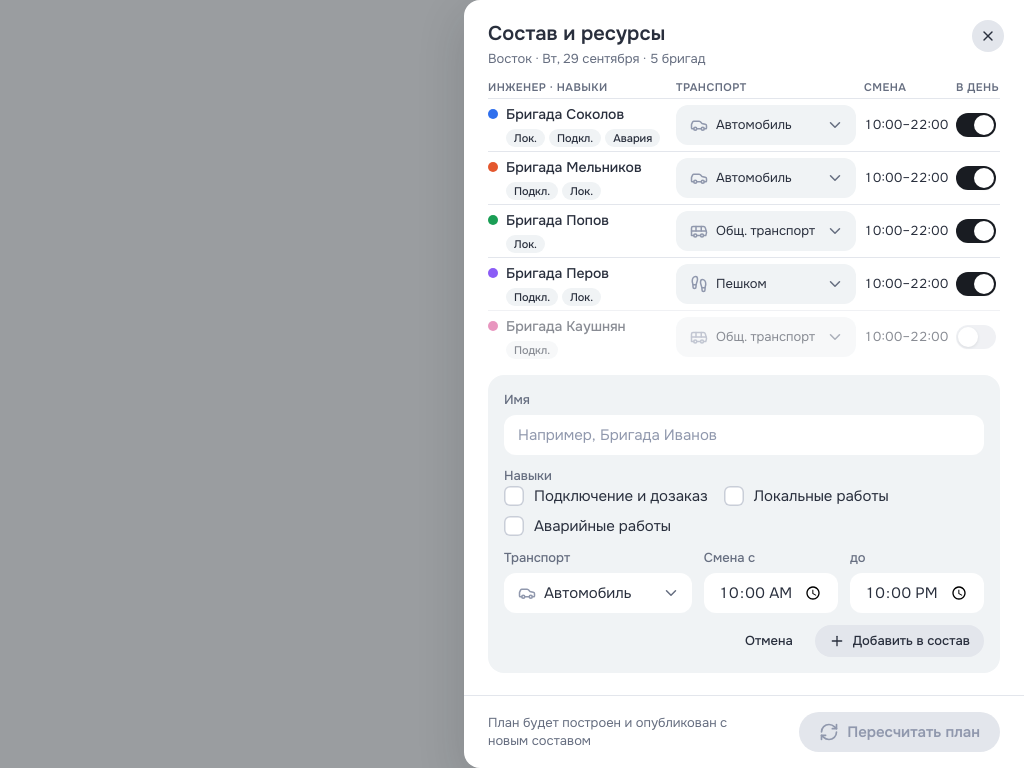
Test: DS-09 «Состав и ресурсы» › до публикации: PATCH изменённых и POST новых → расчёт и сразу публикация (D-25)
The width and height of the screenshot is (1024, 768).
expect the time field labelled "Смена с" holds "10:00": met, box [718,573,824,613]
expect the time field labelled "до" holds "22:00": met, box [864,573,970,613]
Click the button "Добавить в состав" at [899, 641], box [815,625,984,657]
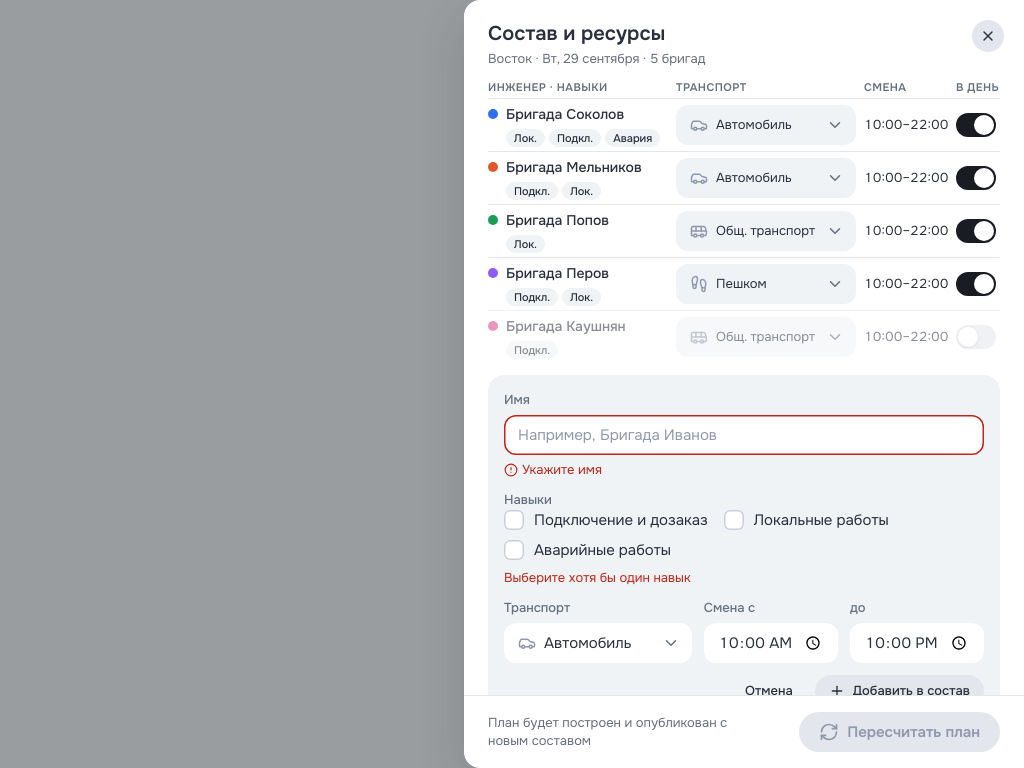
expect the text "Укажите имя" is shown: met, box [504,461,602,478]
expect the text "Выберите хотя бы один навык" is shown: met, box [504,569,691,586]
Type "Бригада Иванов" into the field labelled "Имя" at [744, 435], box [518,415,970,455]
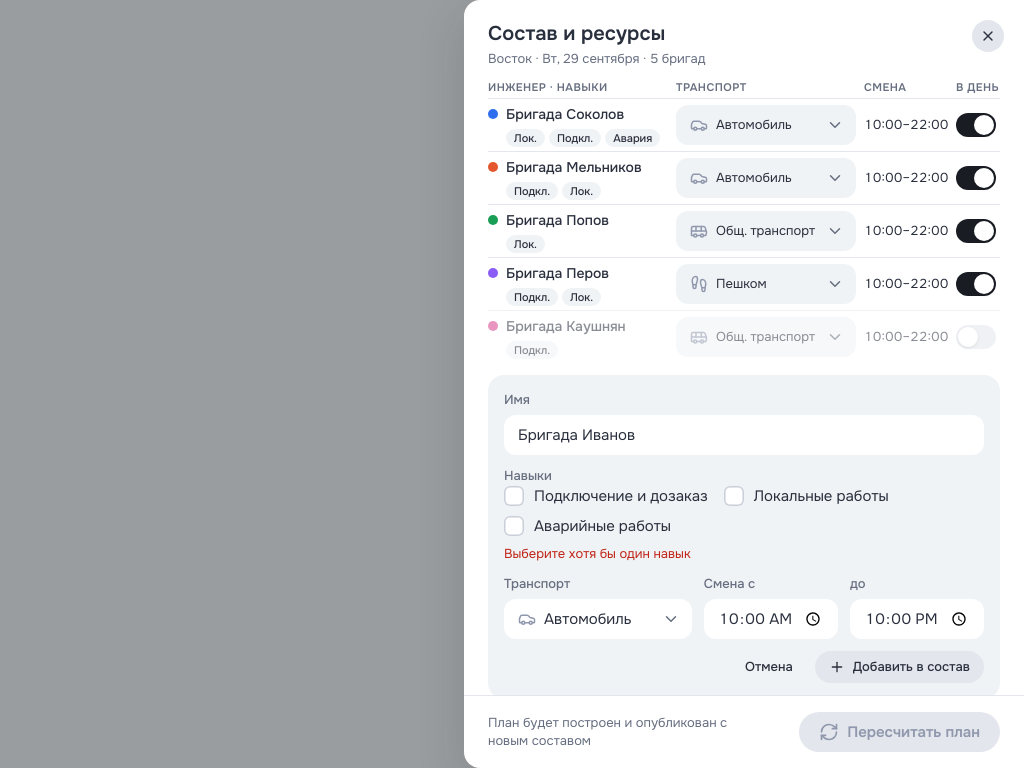
Click the checkbox labelled "Аварийные работы" at [587, 526], box [504,515,671,537]
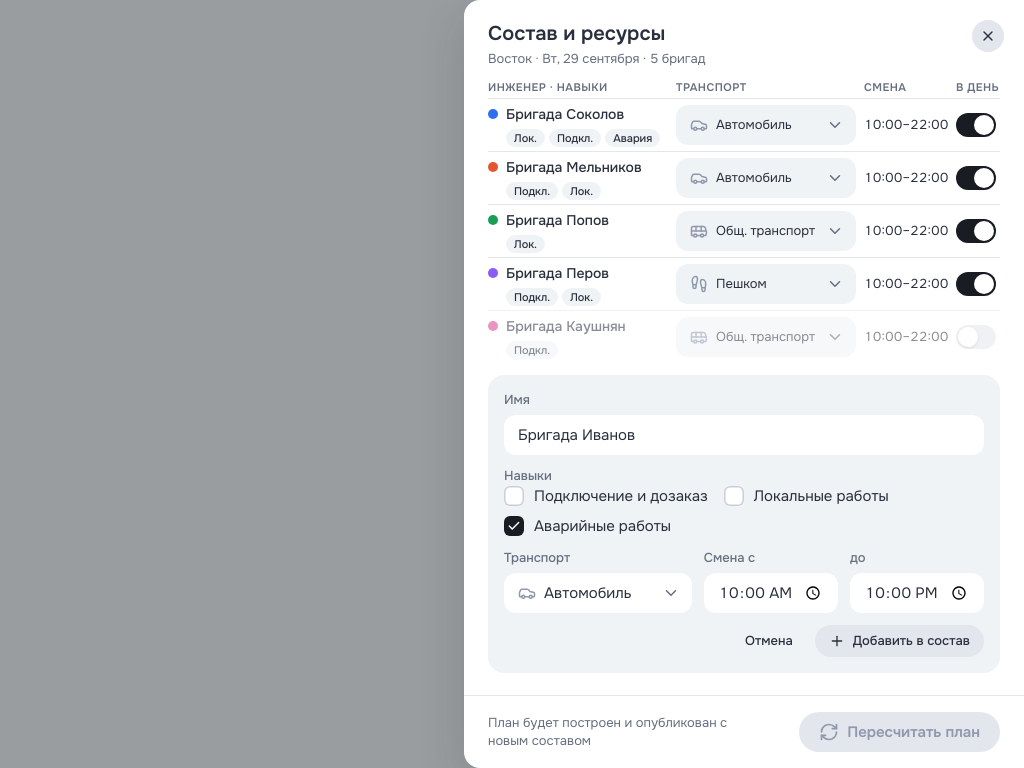
Click the button "Добавить в состав" at [899, 641], box [815,625,984,657]
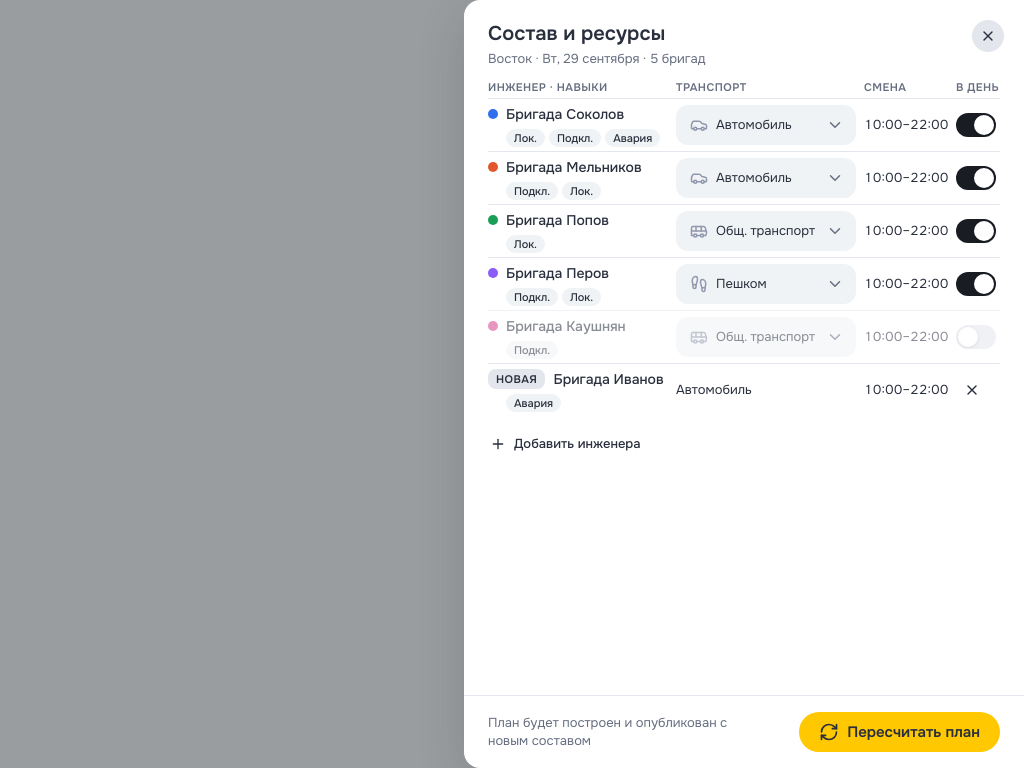
expect the text "Бригада Иванов" is shown: met, box [553,368,664,390]
Select "Пешком" in the dropdown named "Транспорт: Бригада Соколов" at [780, 125], box [716,105,844,145]
Click the switch in the row of "Бригада Попов" at [978, 231], box [956,219,1000,243]
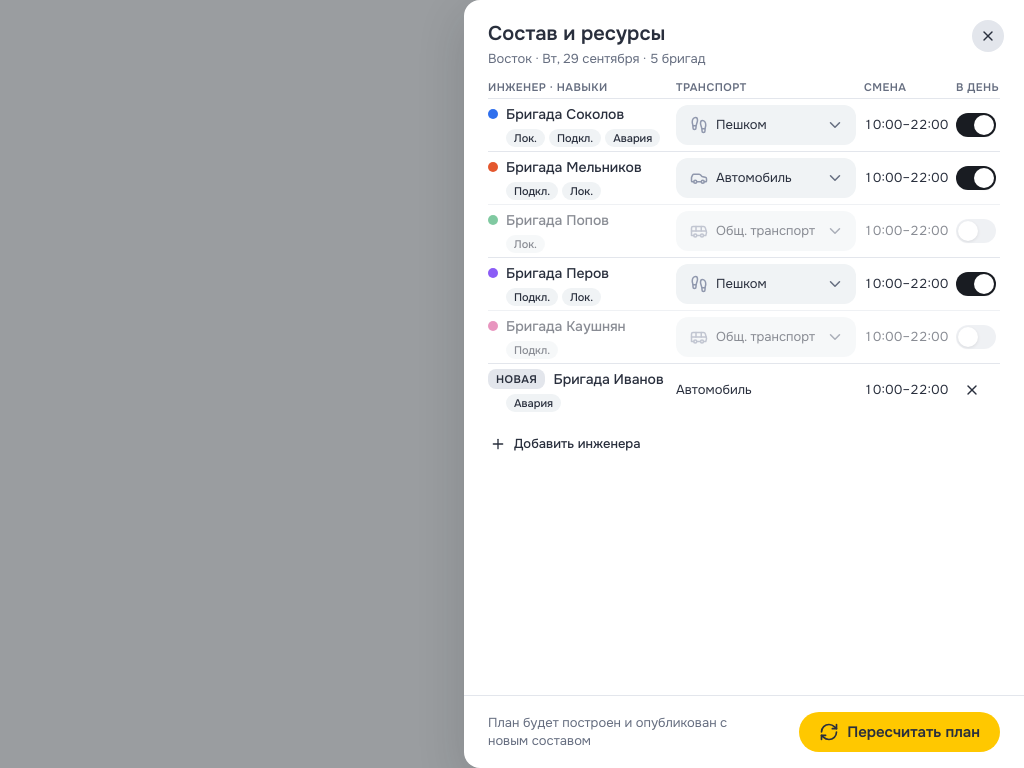
expect the text "План будет построен и опубликован с новым составом" is shown: met, box [488,714,727,749]
Click the button "Пересчитать план" at [900, 732], box [799,712,1000,752]
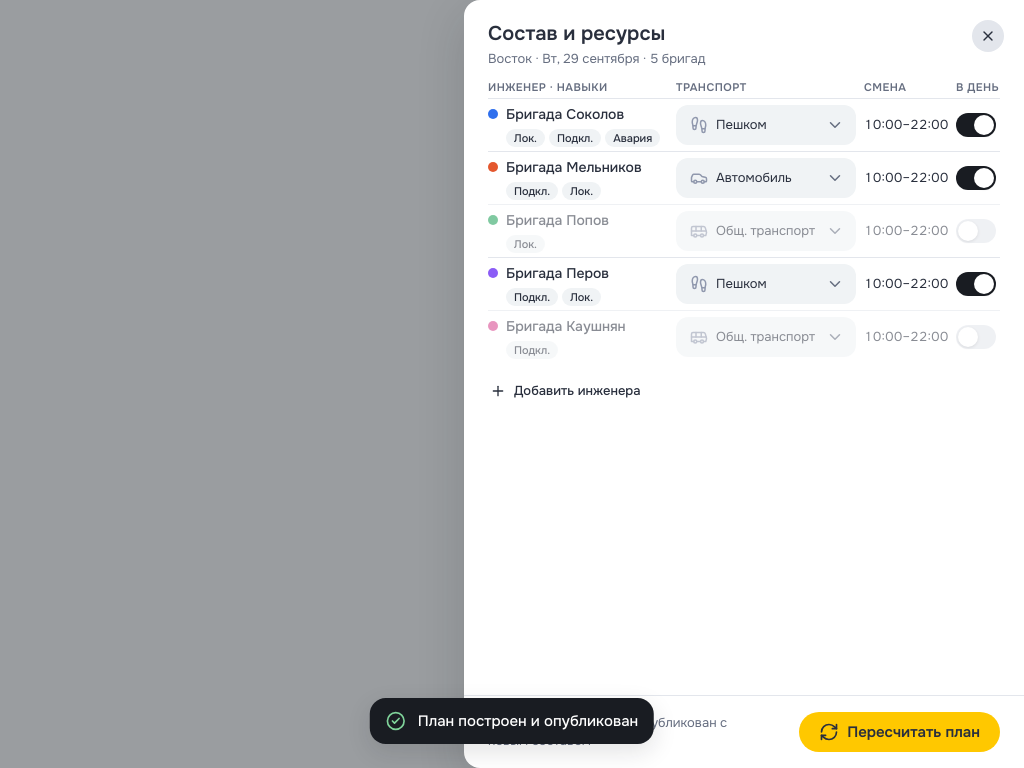
expect the text "План построен и опубликован" is shown: met, box [418,710,638,732]
